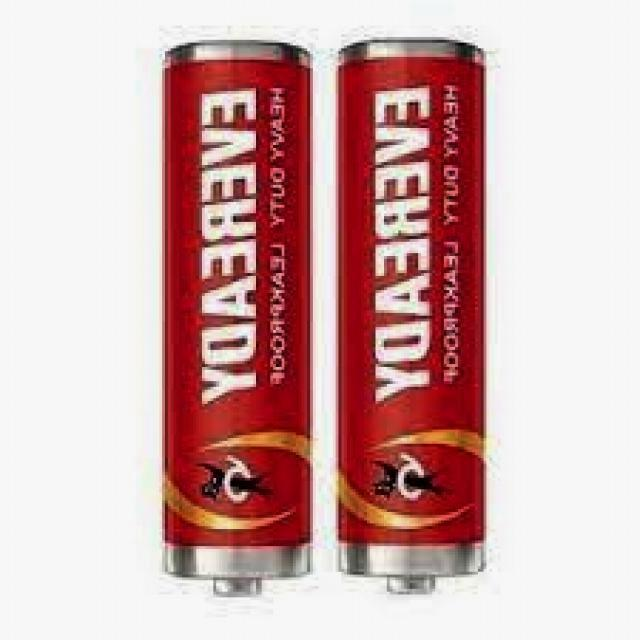battery: (334, 39, 486, 595), (163, 39, 312, 600)
